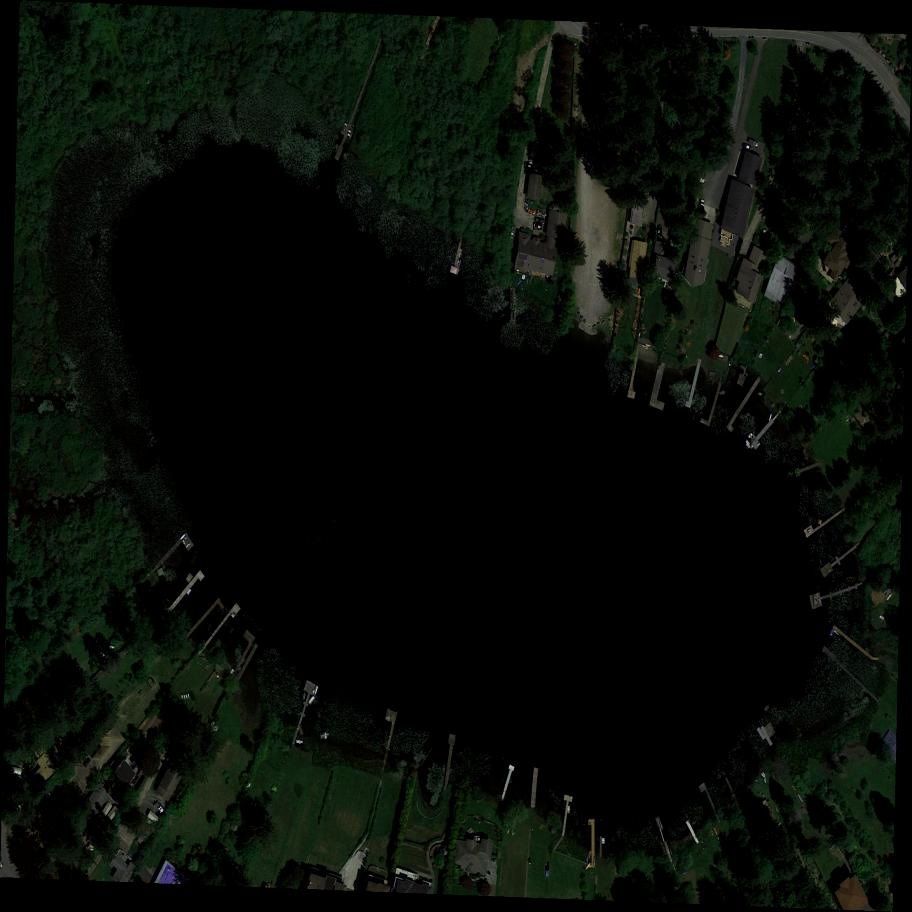ship: (758, 391, 764, 403), (746, 439, 752, 450), (846, 578, 857, 583), (584, 818, 590, 827), (296, 740, 304, 746), (302, 692, 307, 701), (546, 862, 548, 869)
small-vehicle: (153, 802, 165, 815), (524, 161, 534, 174), (533, 223, 543, 231), (700, 200, 705, 210), (658, 225, 663, 235)
